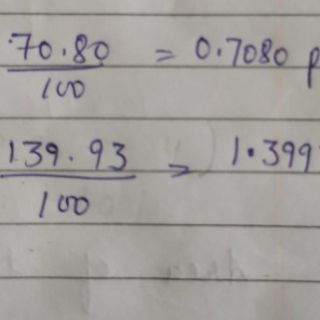.: (246, 143, 256, 158), (59, 46, 68, 59), (216, 44, 224, 57)
0: (192, 34, 212, 63), (37, 35, 53, 60), (92, 40, 113, 59), (243, 41, 257, 64)
1: (230, 131, 241, 167), (5, 135, 17, 166)
3: (258, 134, 280, 169), (20, 137, 43, 169), (109, 139, 129, 172)
7: (9, 27, 33, 62), (223, 34, 243, 68)
8: (71, 31, 89, 65), (258, 35, 272, 64)
9: (86, 136, 106, 172), (278, 138, 297, 168), (298, 140, 314, 173), (44, 141, 61, 169)
